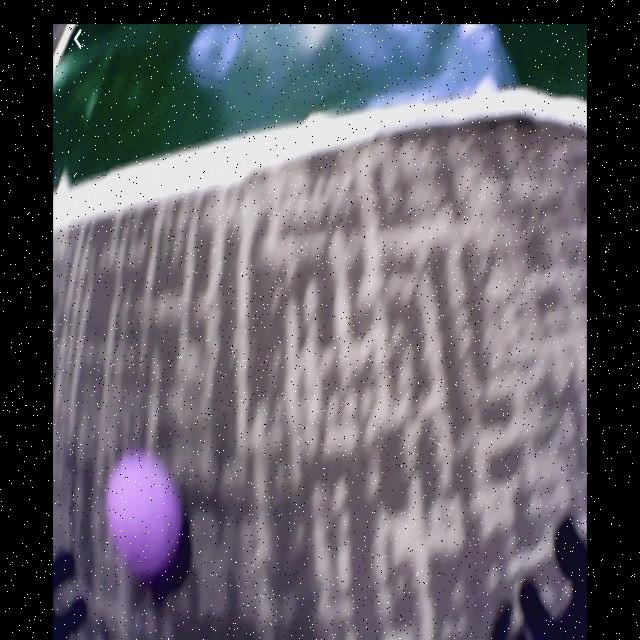ball: (106, 454, 184, 573)
